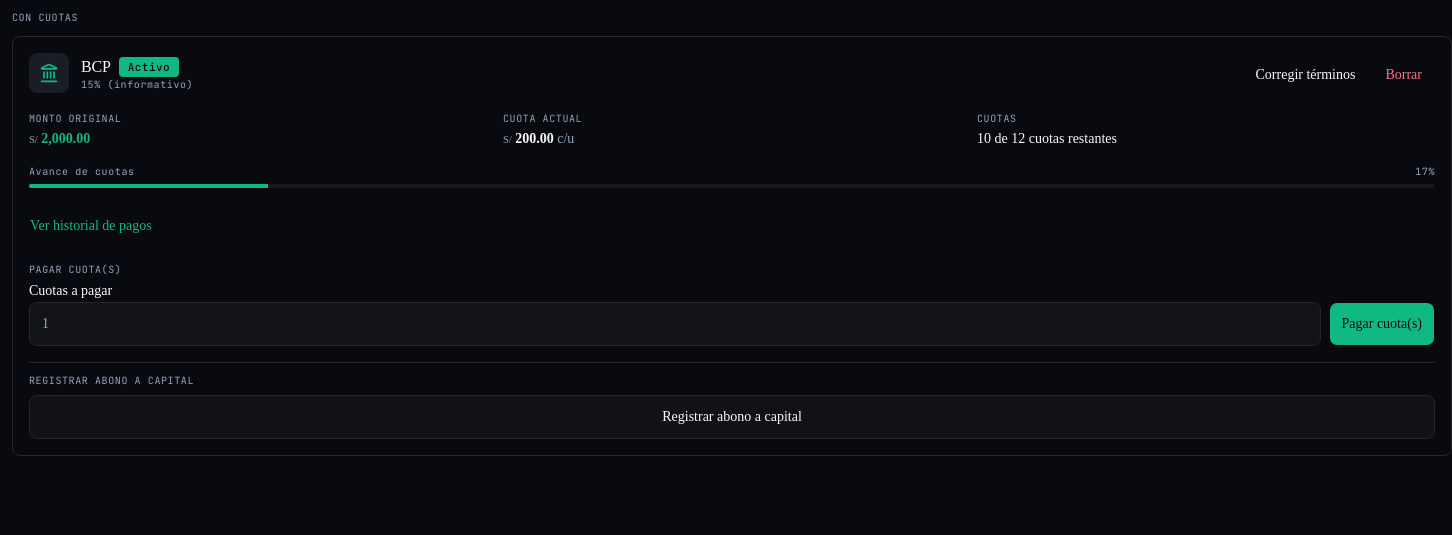
InstallmentLoanList › lists the payment history on demand
Check: the heading "BCP Activo" is shown, box [81,55,193,79]
Click the button "Ver historial de pagos" at (91, 226), box [29,204,153,248]
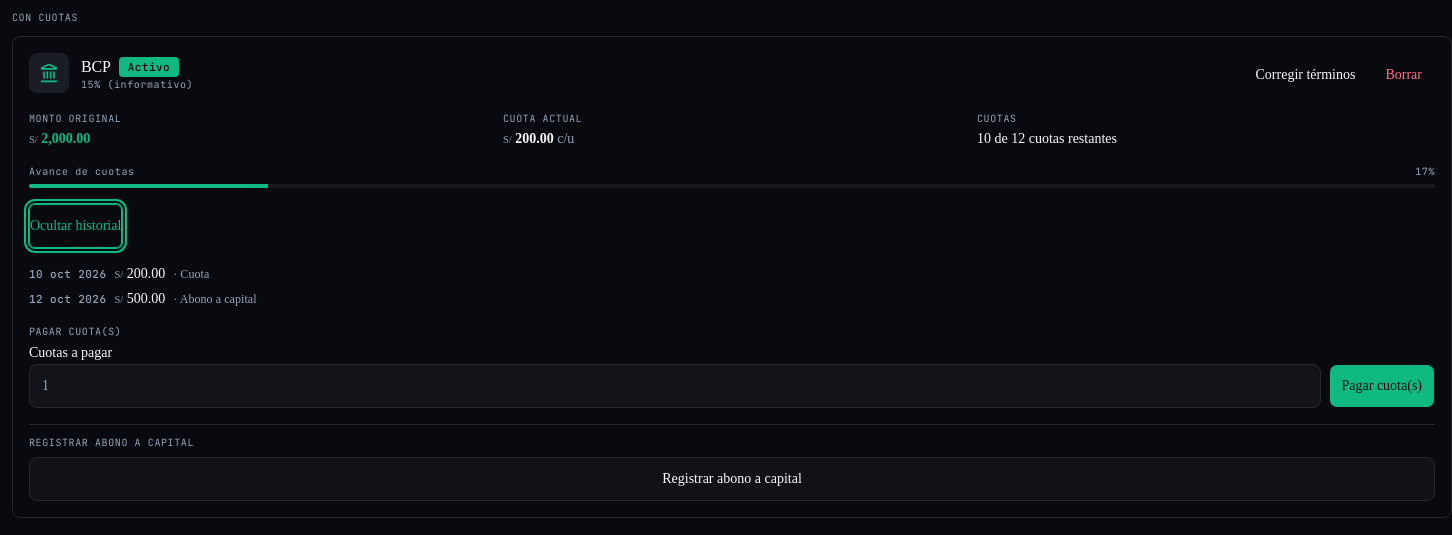
Check: the text "· Cuota" is shown, box [173,266,209,282]
Check: the text "· Abono a capital" is shown, box [173,291,256,307]
Check: the text "10 oct 2026" is shown, box [29,267,106,281]
Click the button "Ocultar historial" at (76, 226), box [29,204,122,248]
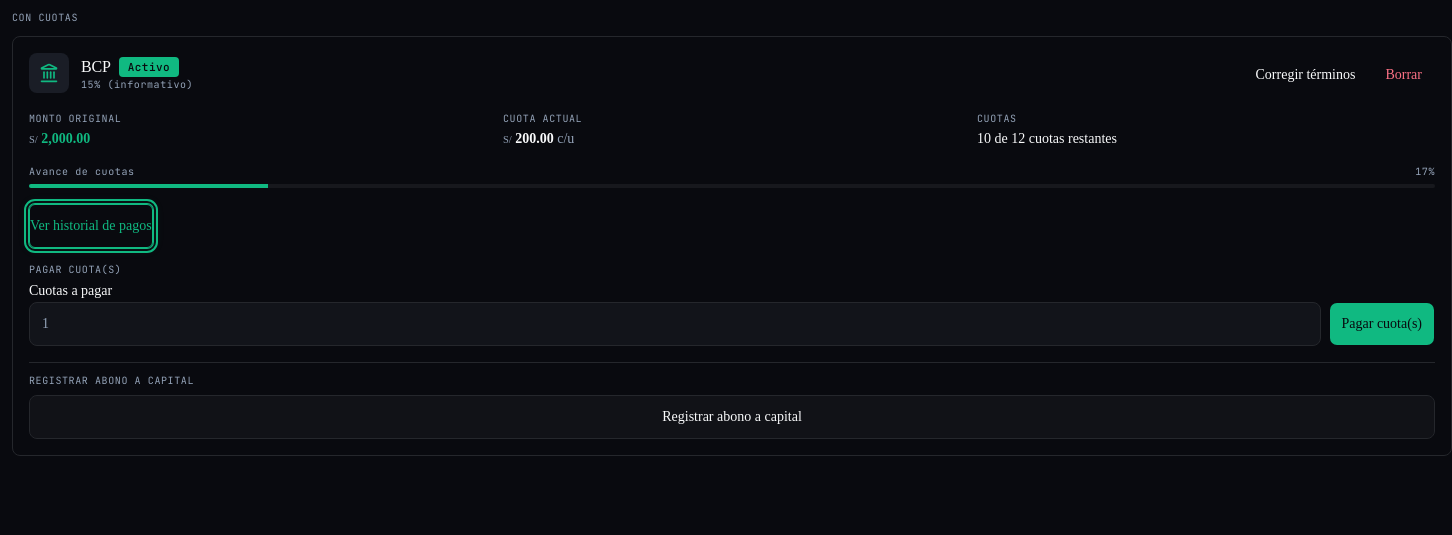
Check: the text "10 oct 2026" is gone
